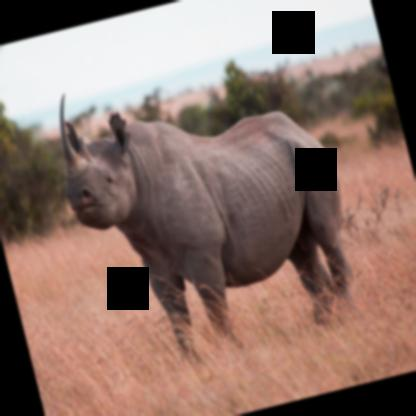Diceros bicornis: (40, 31, 374, 385)
